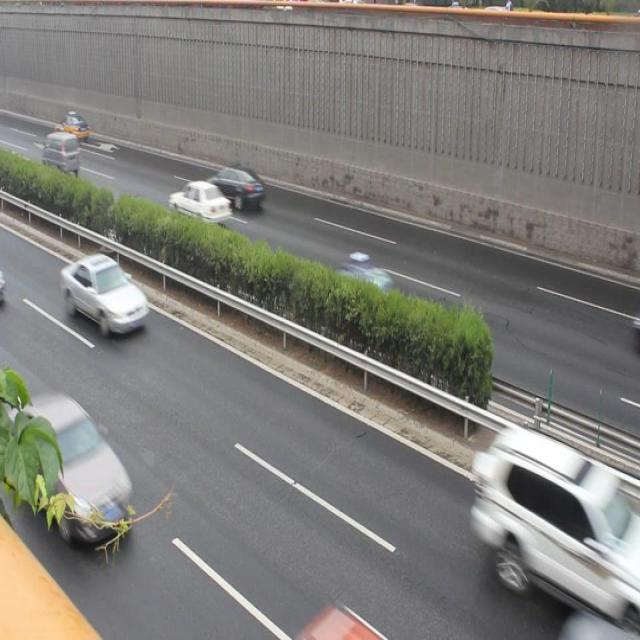car: (480, 424, 631, 616), (14, 390, 132, 539), (304, 260, 401, 335), (63, 252, 147, 334), (168, 181, 232, 227), (202, 166, 265, 210)
truck: (42, 130, 80, 176)
